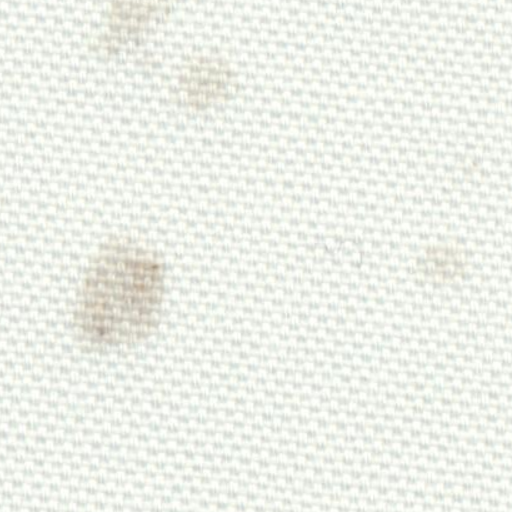WuZi: (52, 220, 188, 364), (90, 4, 254, 119), (408, 220, 480, 310)
